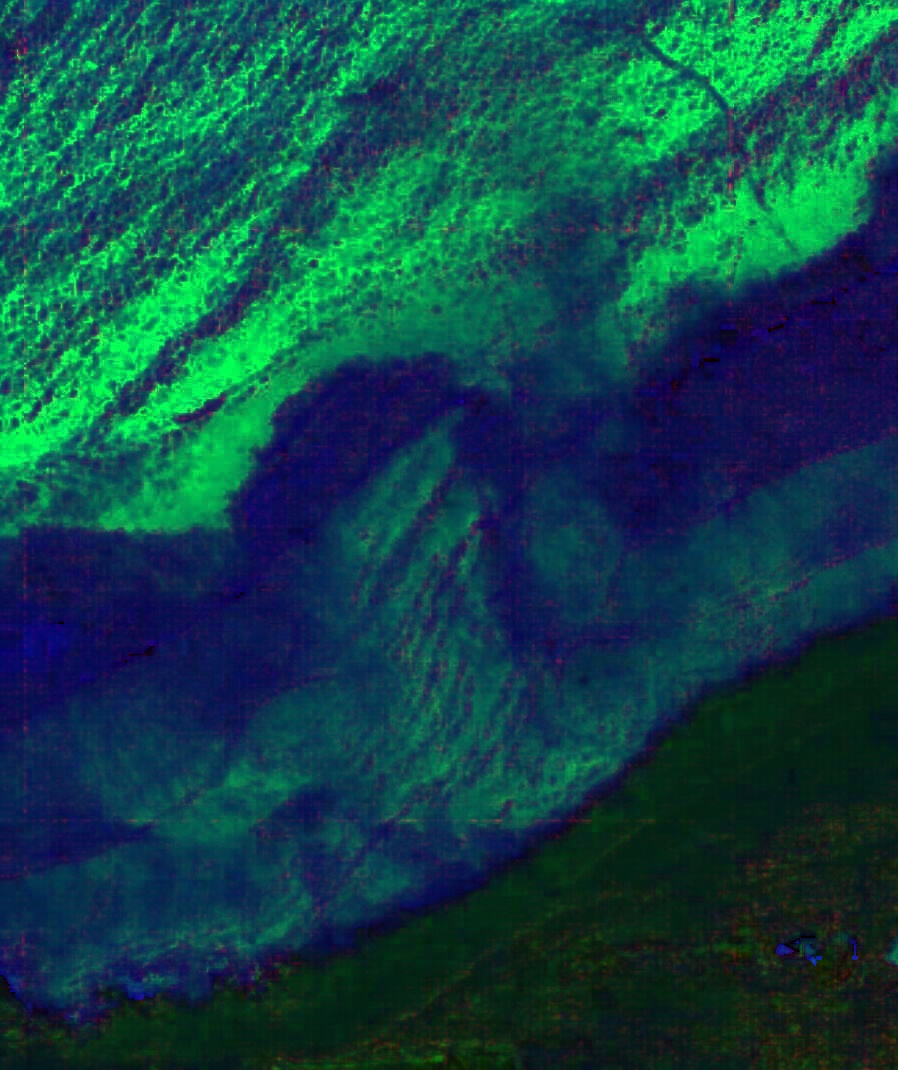rip_current: (231, 396, 637, 817)
